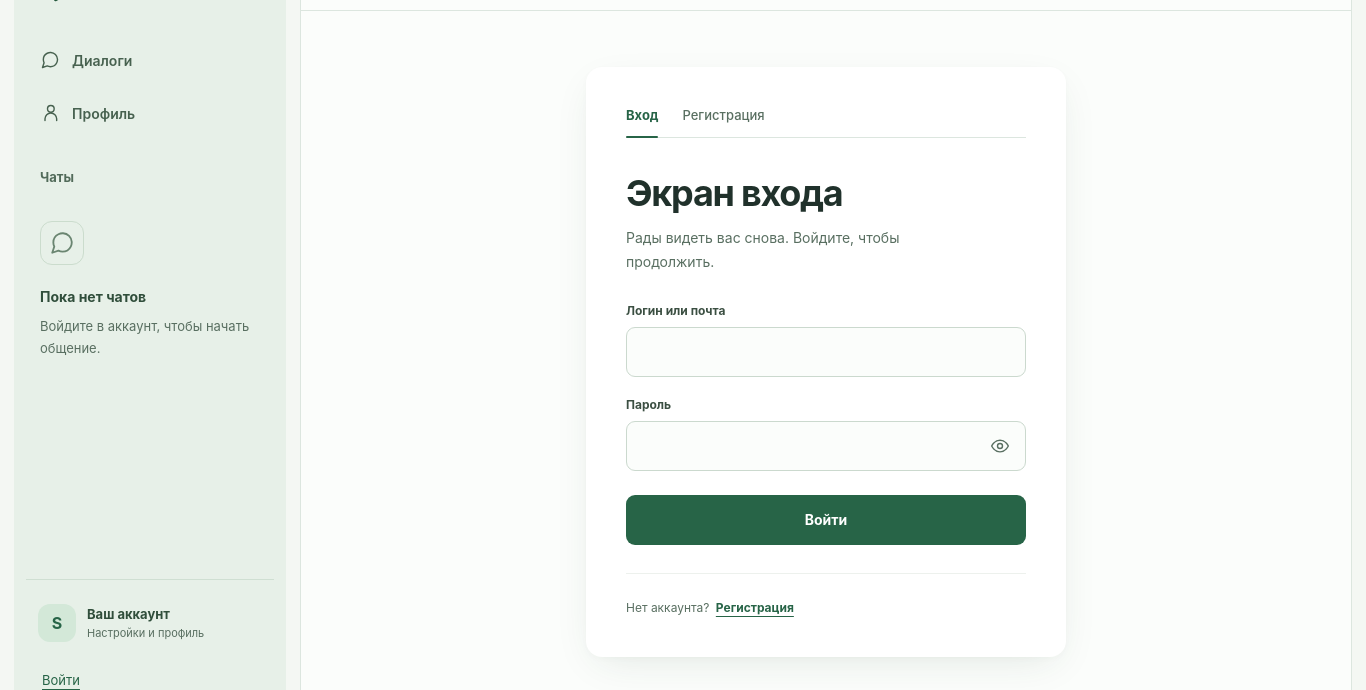
Test: вход и защищённые страницы › входит, открывает профиль и выходит с удалением токена
The image size is (1366, 690).
Type "alice" into the field labelled "Логин или почта" at [826, 352], box left=626, top=327, right=1026, bottom=377
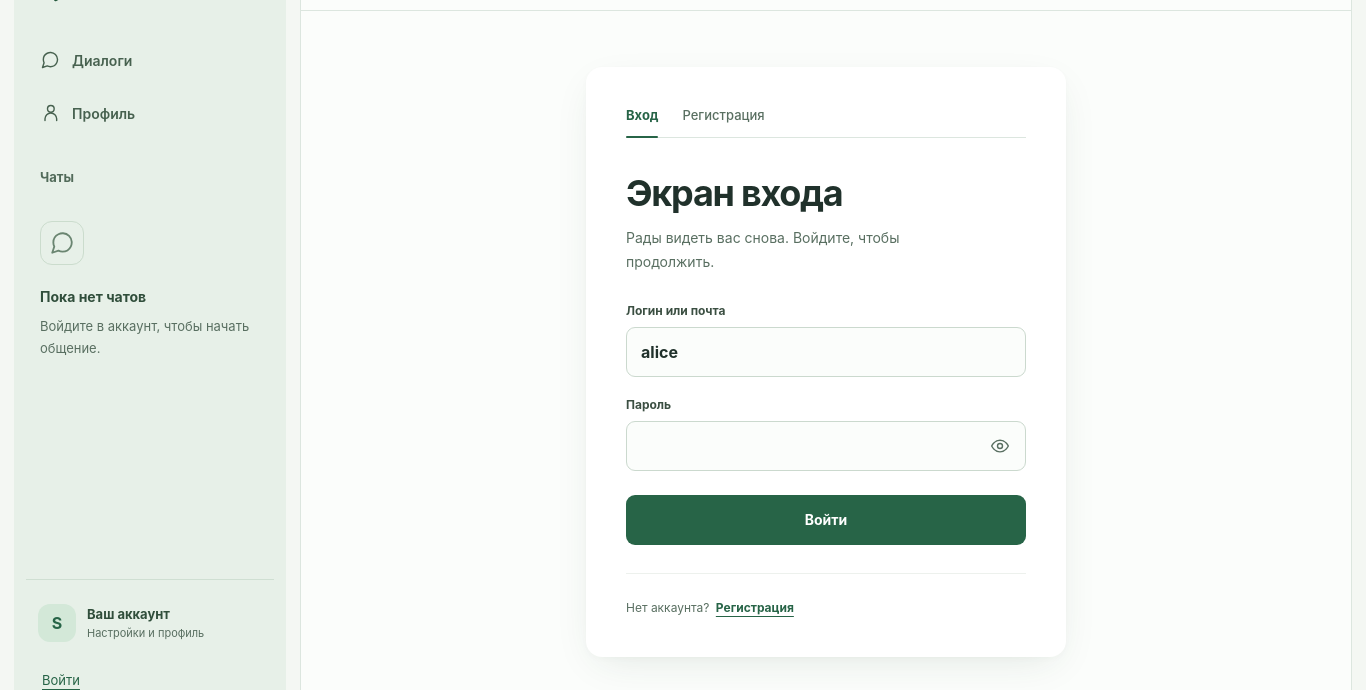
Type "password" into the password field labelled "Пароль" at [826, 446], box left=626, top=421, right=1026, bottom=471
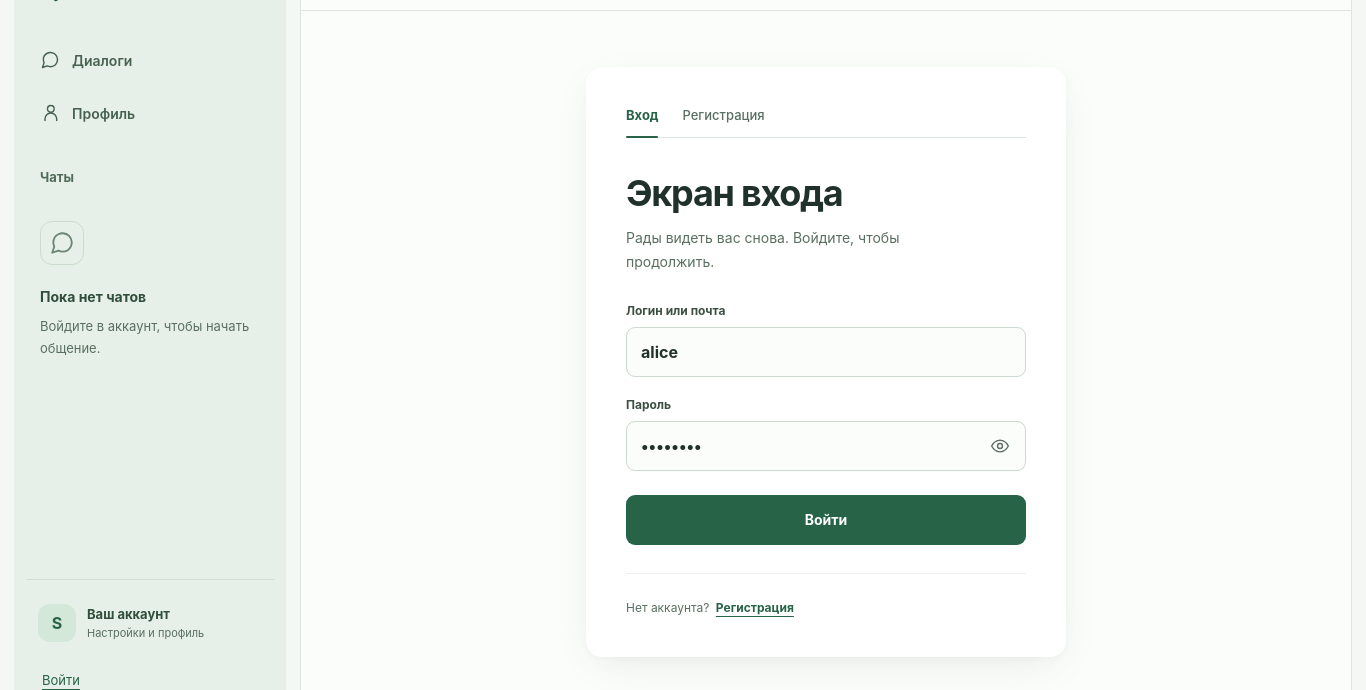
Click the button "Войти" at [826, 520], box left=626, top=495, right=1026, bottom=545
(page scrolled)
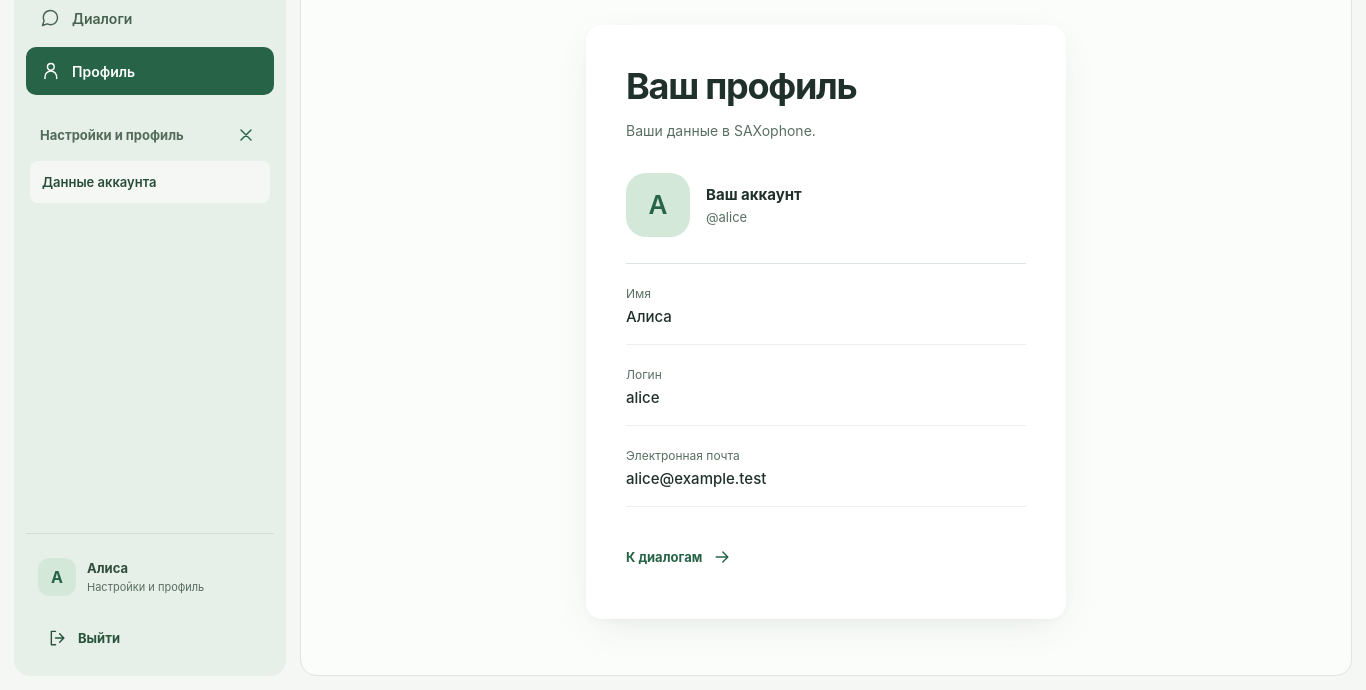
Check: the heading "Ваш профиль" is shown, box left=626, top=64, right=856, bottom=108
Click the button "Выйти" at [150, 638], box left=30, top=616, right=270, bottom=660
(page scrolled)
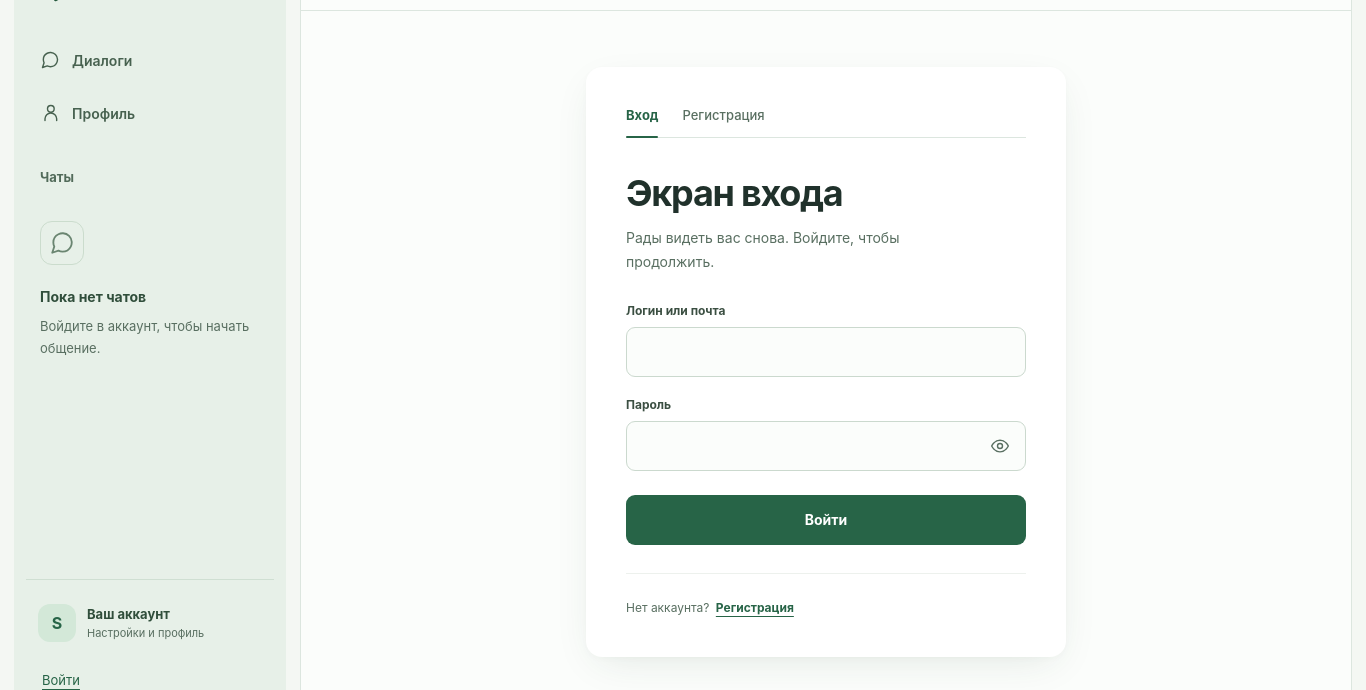
Check: the heading "Экран входа" is shown, box left=626, top=171, right=842, bottom=215
